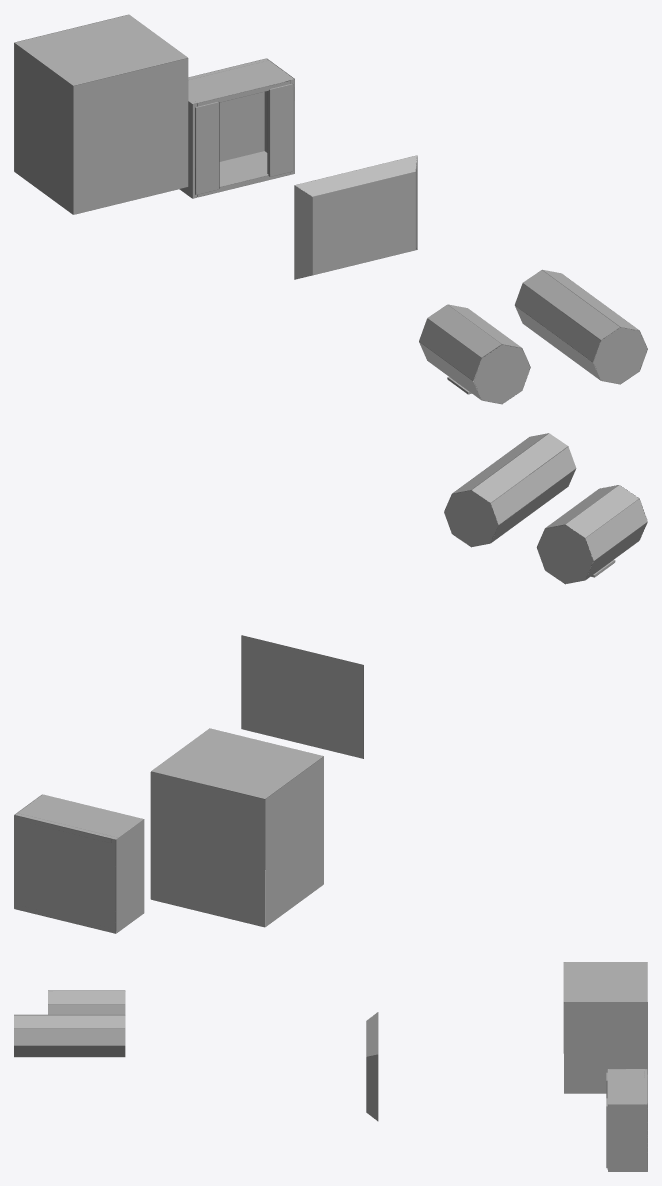
File: contents_books_misc_02_30.obj
The picture shows the model from 3 angles, top to bottom: view 1: azimuth 30°, elevation 25°; view 2: azimuth 150°, elevation 25°; view 3: azimuth 270°, elevation 25°; orthographic projection. The views are drawn at different scales.
Parts seen in each view (by area): view 1: contents_books_misc_02_30; view 2: contents_books_misc_02_30; view 3: contents_books_misc_02_30.
Boxes of the visible parts, x1,y1,x2,y2 form: contents_books_misc_02_30: (14, 14, 647, 404); contents_books_misc_02_30: (14, 433, 647, 933); contents_books_misc_02_30: (14, 962, 647, 1171).
Bounding box in the file's own units: 0.615 × 0.407 × 1.88.
1 material, 1 textured.
